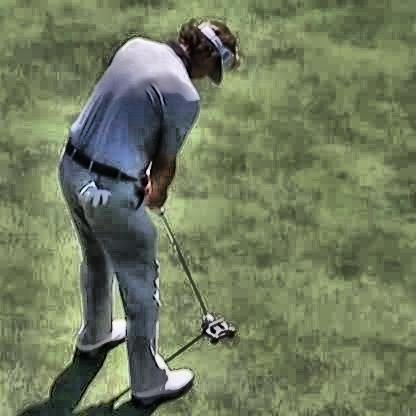golfball: (200, 314, 213, 321)
